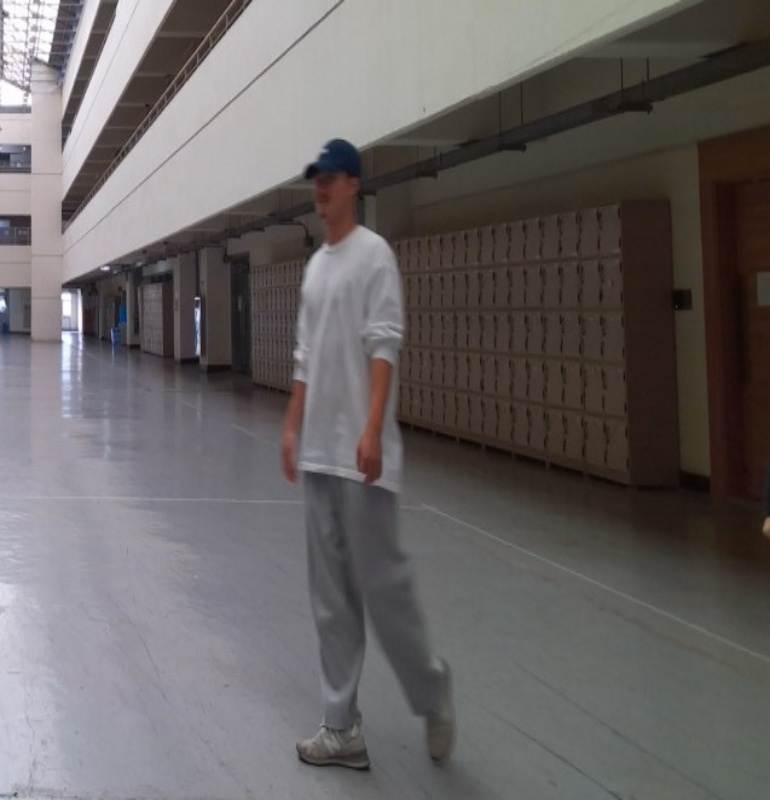person: (278, 135, 459, 770)
